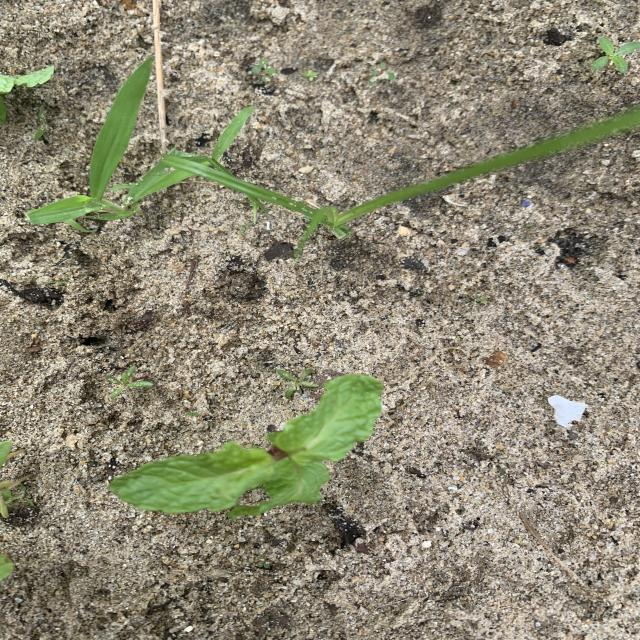crop: (112, 372, 382, 519)
weed: (163, 108, 640, 257), (26, 58, 152, 234), (591, 37, 639, 72), (108, 366, 151, 399), (0, 480, 34, 516), (278, 368, 316, 397), (251, 58, 276, 83), (368, 63, 396, 84), (33, 106, 48, 141), (303, 70, 319, 81), (475, 297, 487, 304)
